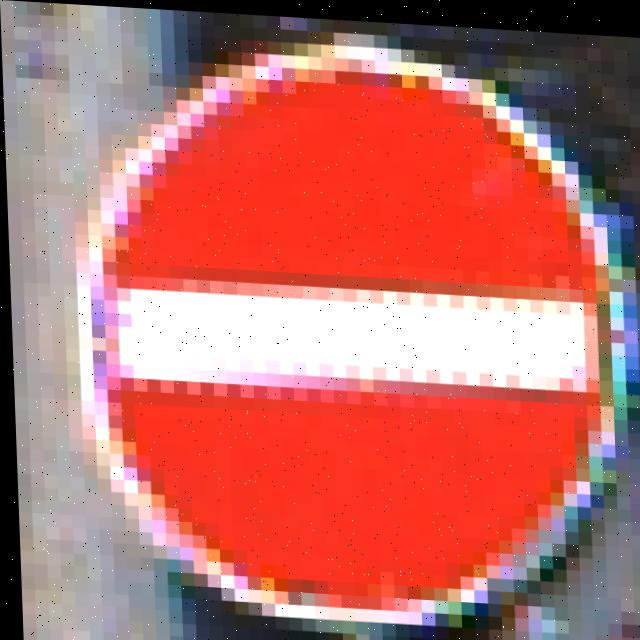road_rough: (82, 30, 640, 632)
